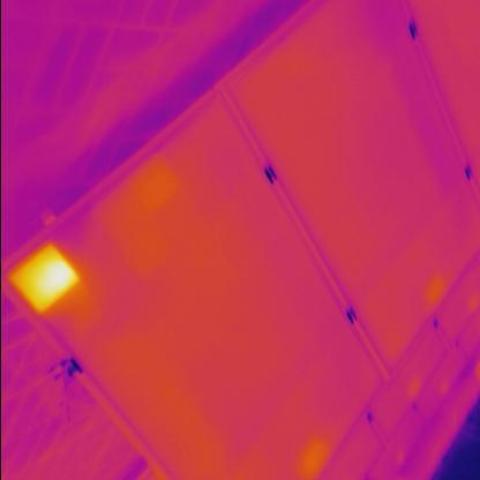fault: (17, 256, 88, 297)
